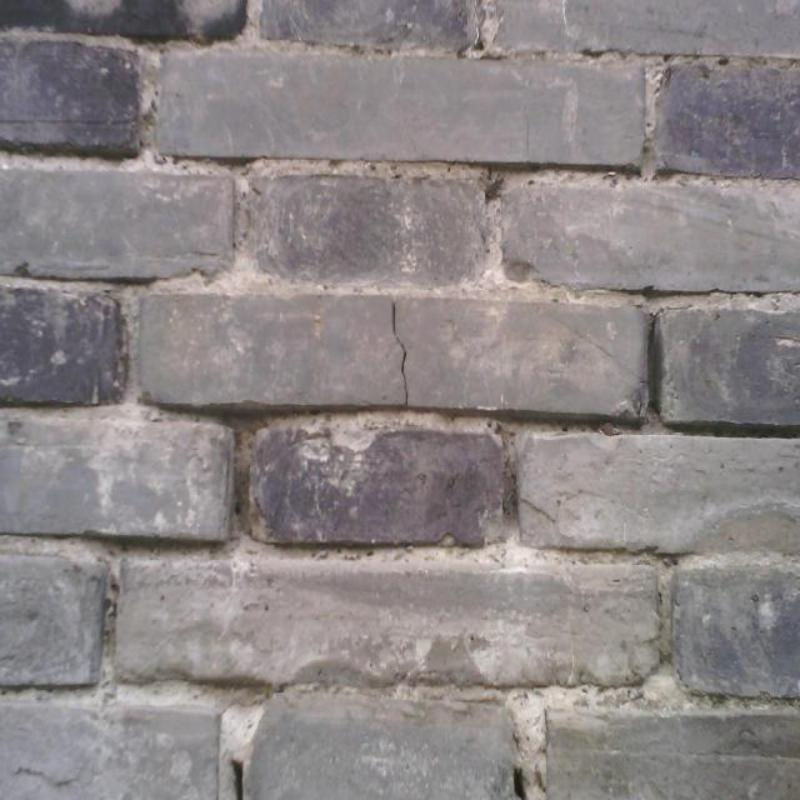pothole: (391, 301, 408, 407), (648, 304, 691, 342), (520, 501, 555, 523), (231, 758, 245, 799), (512, 770, 528, 799)
